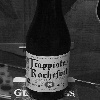beer: (20, 1, 73, 98)
